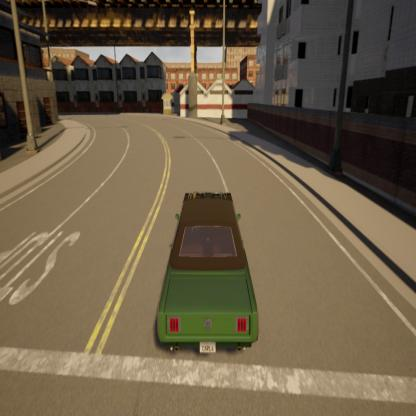Cars: (158, 190, 258, 354)
